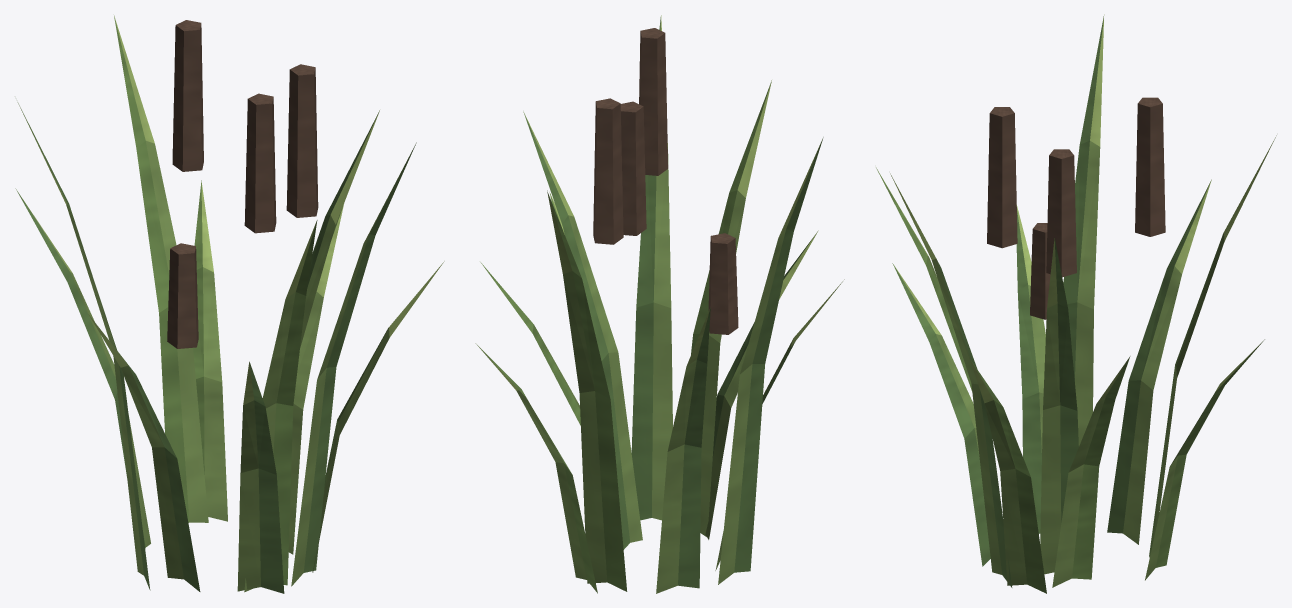
Rendered from cattail_clump_01.fbx.
3 renders of one model, left to right at view 1: azimuth 30°, elevation 25°; view 2: azimuth 150°, elevation 25°; view 3: azimuth 270°, elevation 25°, orthographic. The views are drawn at different scales.
Visible parts, largest first — view 1: cattail_clump_01; view 2: cattail_clump_01; view 3: cattail_clump_01.
Part boxes in pixels (x1=…): cattail_clump_01: x1=15, y1=15, x2=444, y2=593; cattail_clump_01: x1=475, y1=15, x2=844, y2=593; cattail_clump_01: x1=876, y1=14, x2=1276, y2=593.
Size of the model in its own units: 73.71 by 100 by 78.
1 material, 1 textured.
